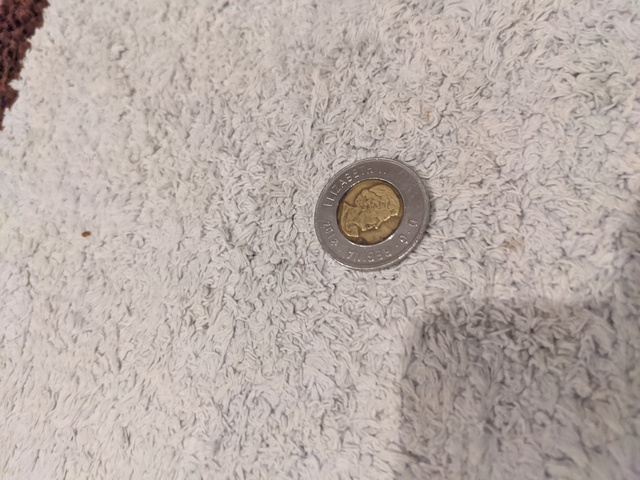twonie: (314, 161, 434, 275)
